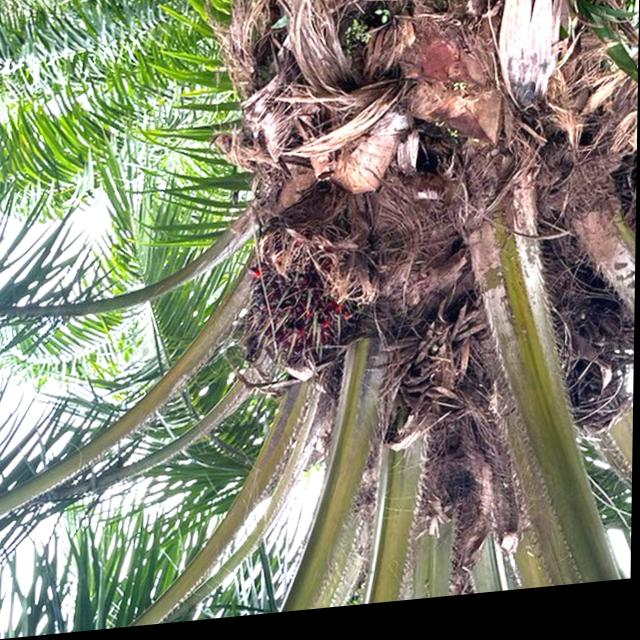ripe: (229, 237, 375, 384)
